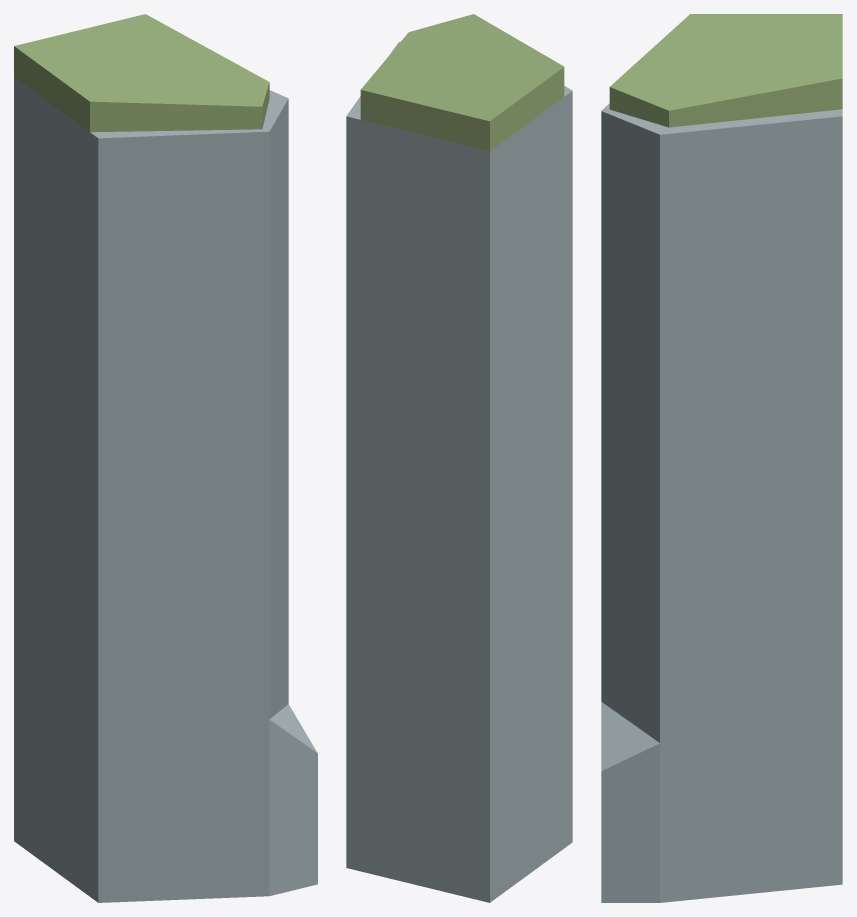
File: Dual_Grid_L_W_W_W.fbx
The picture shows the model from 3 angles, left to right: view 1: azimuth 30°, elevation 25°; view 2: azimuth 150°, elevation 25°; view 3: azimuth 270°, elevation 25°; orthographic projection. The views are drawn at different scales.
Parts seen in each view (by area): view 1: Tile_L_W_W_W; view 2: Tile_L_W_W_W; view 3: Tile_L_W_W_W.
Part boxes in pixels (x1,y1,x2,y2): Tile_L_W_W_W: [14, 14, 317, 902]; Tile_L_W_W_W: [346, 14, 572, 902]; Tile_L_W_W_W: [601, 14, 842, 902].
Bounding box in the file's own units: 62.83 × 71.27 × 260.
